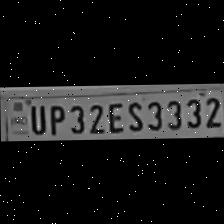2: (201, 94, 221, 128), (85, 100, 105, 133)
3: (64, 102, 84, 134), (163, 96, 181, 130), (183, 94, 201, 128), (144, 99, 162, 130)
E: (104, 98, 124, 132)
P: (45, 102, 65, 134)
S: (123, 98, 143, 131)
U: (25, 102, 45, 133)
